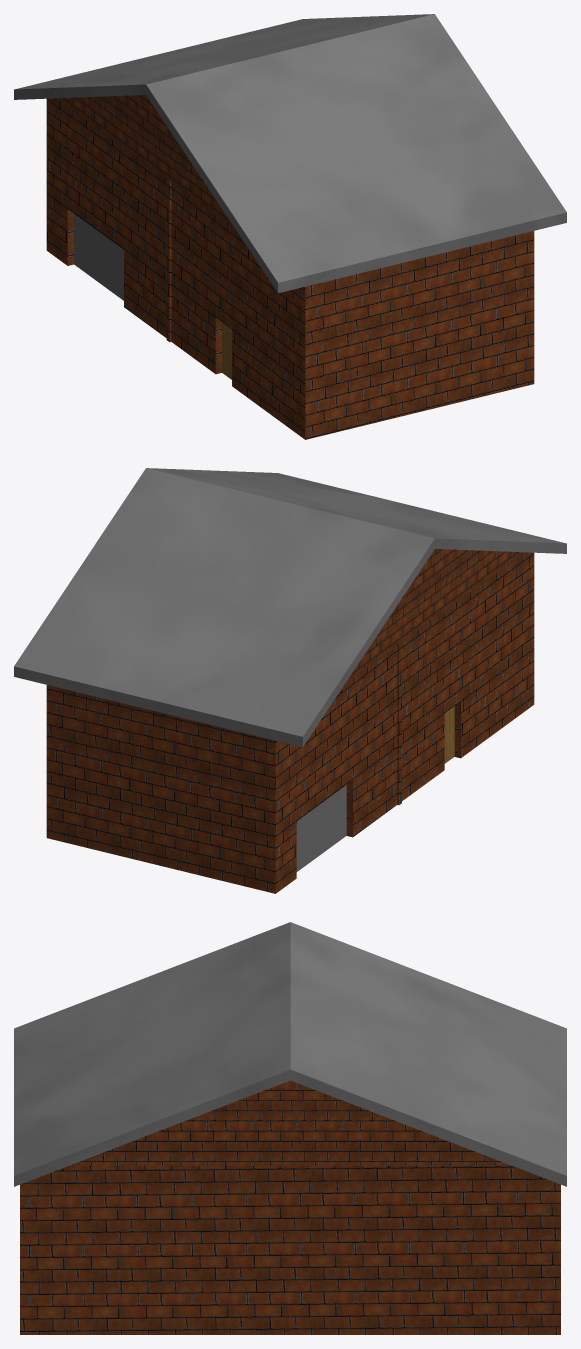
File: Blocos 2.fbx
The picture shows the model from 3 angles, top to bottom: view 1: azimuth 30°, elevation 25°; view 2: azimuth 150°, elevation 25°; view 3: azimuth 270°, elevation 25°; orthographic projection. The views are drawn at different scales.
Parts seen in each view (by area): view 1: Casa02; view 2: Casa02; view 3: Casa02.
Boxes of the visible parts, x1=… form: Casa02: x1=14, y1=14, x2=566, y2=439; Casa02: x1=14, y1=468, x2=566, y2=893; Casa02: x1=14, y1=922, x2=566, y2=1334.
Size of the model in its own units: 1310 by 1162 by 2075.
